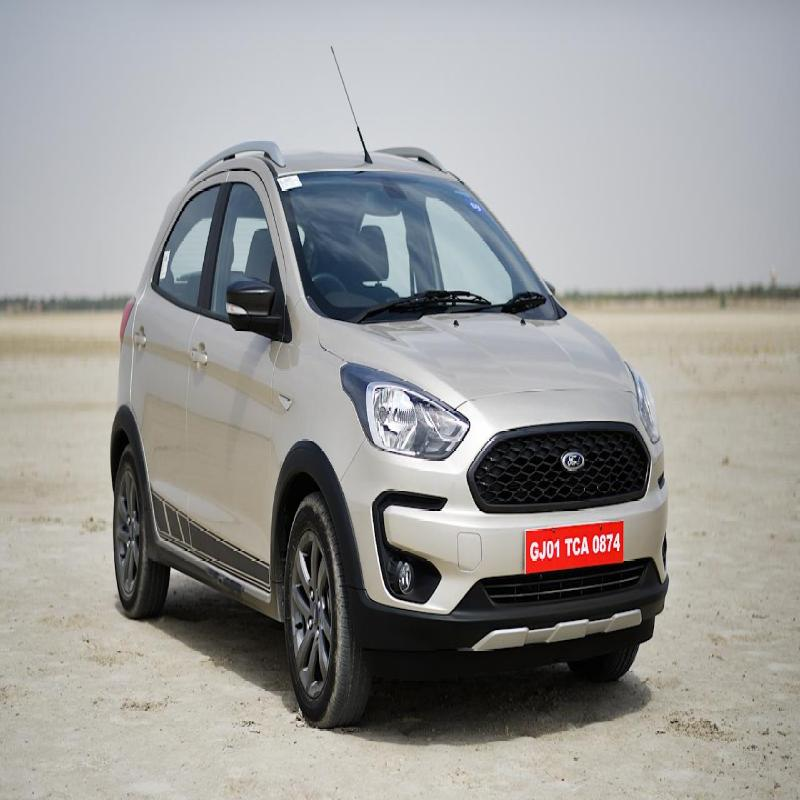car: (90, 127, 680, 691)
